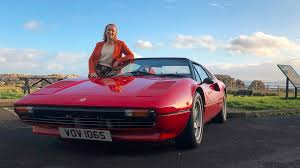car: (15, 54, 229, 148)
